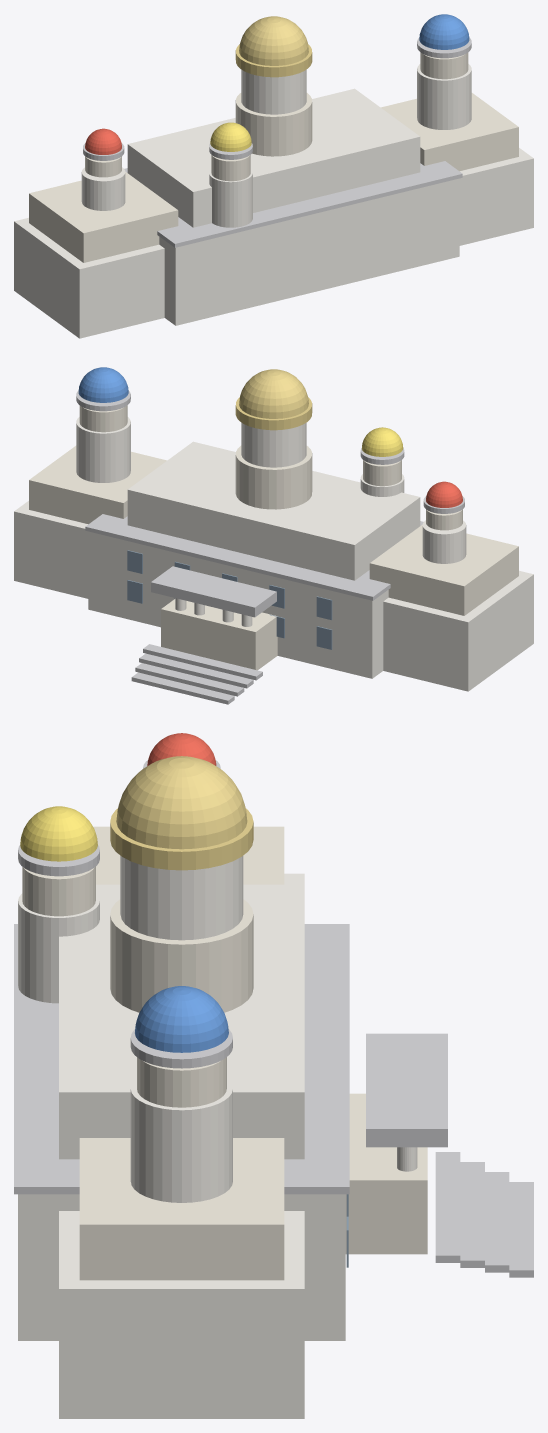
The model's file is duel_academy.glb.
3 views of the same model, one above another, from view 1: azimuth 30°, elevation 25°; view 2: azimuth 150°, elevation 25°; view 3: azimuth 270°, elevation 25° (orthographic). The views are drawn at different scales.
Visible parts, largest first — view 1: DuelAcademy; view 2: DuelAcademy; view 3: DuelAcademy.
Part boxes in pixels (x1,y1,x2,y2): DuelAcademy: (14,14,533,338); DuelAcademy: (14,367,533,704); DuelAcademy: (14,733,533,1418).
Size of the model in its own units: 48 by 25.4 by 25.4.
